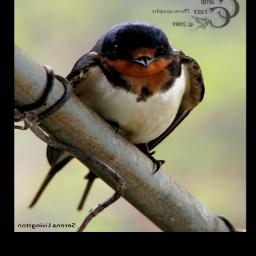Swallow: (27, 22, 205, 210)
